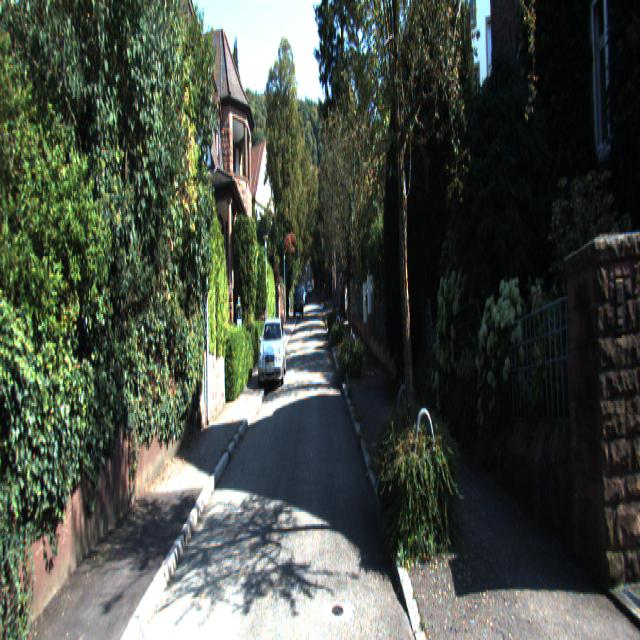Car: (257, 314, 287, 387), (294, 283, 304, 319)
